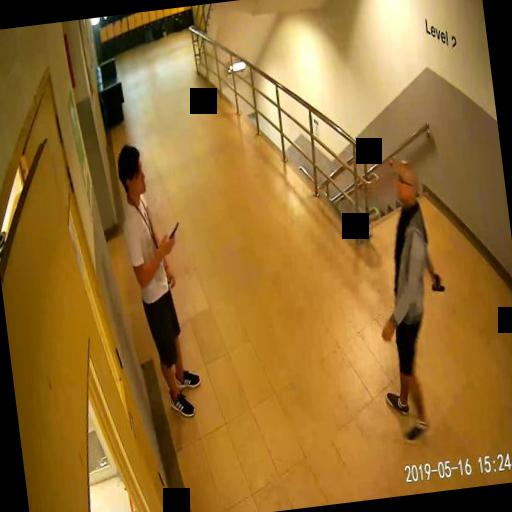Handgun: (428, 270, 444, 292)
